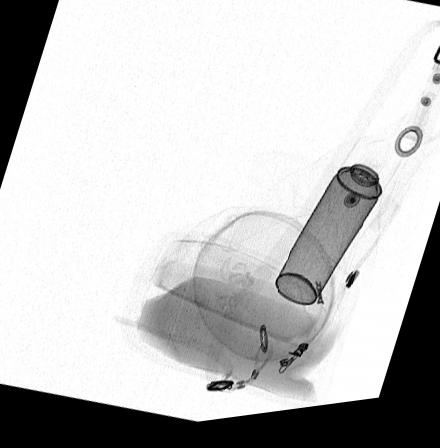Sprayer: (275, 146, 401, 312)
